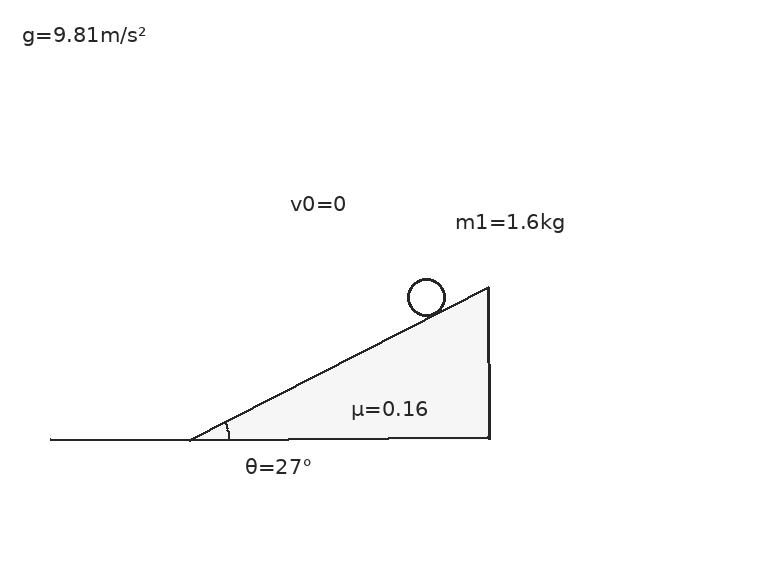ball: (405, 276, 447, 318)
ramp: (187, 284, 490, 441)
